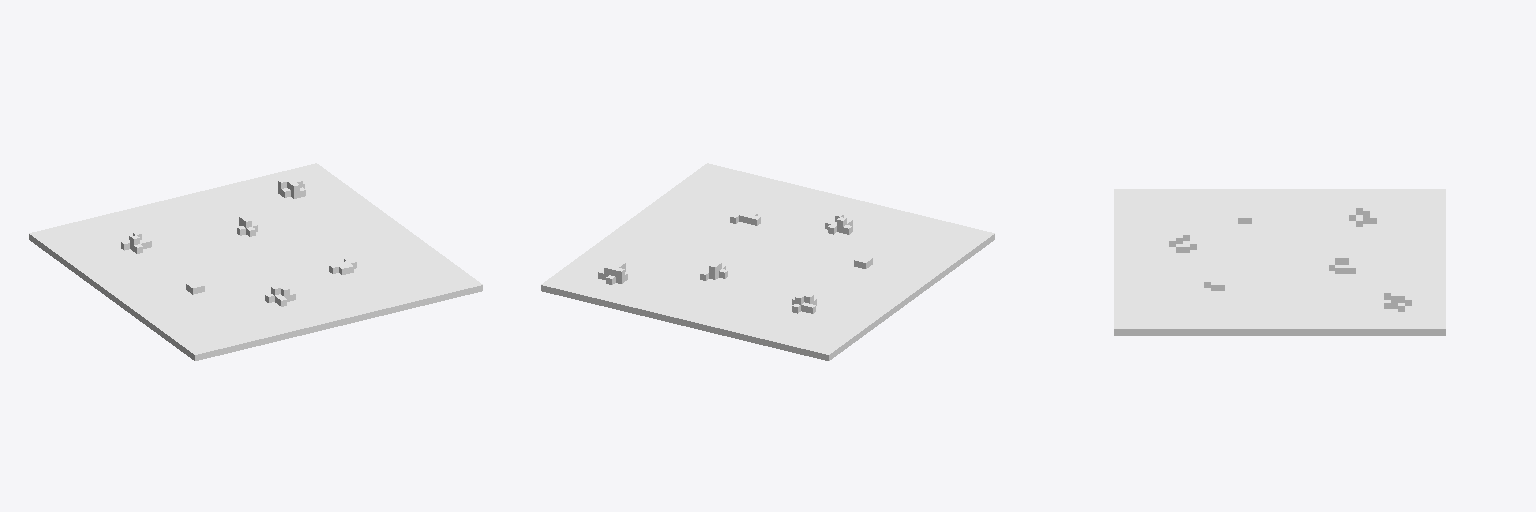
Rendered from gravel.obj.
3 views of the same model, side by side, from view 1: azimuth 30°, elevation 25°; view 2: azimuth 150°, elevation 25°; view 3: azimuth 270°, elevation 25° (orthographic).
Visible parts, largest first — view 1: object 1; view 2: object 1; view 3: object 1.
Boxes of the visible parts, x1,y1,x2,y2 form: object 1: [29, 163, 482, 360]; object 1: [541, 163, 994, 360]; object 1: [1114, 189, 1445, 335].
Size of the model in its own units: 4.8 by 0.3 by 4.8.